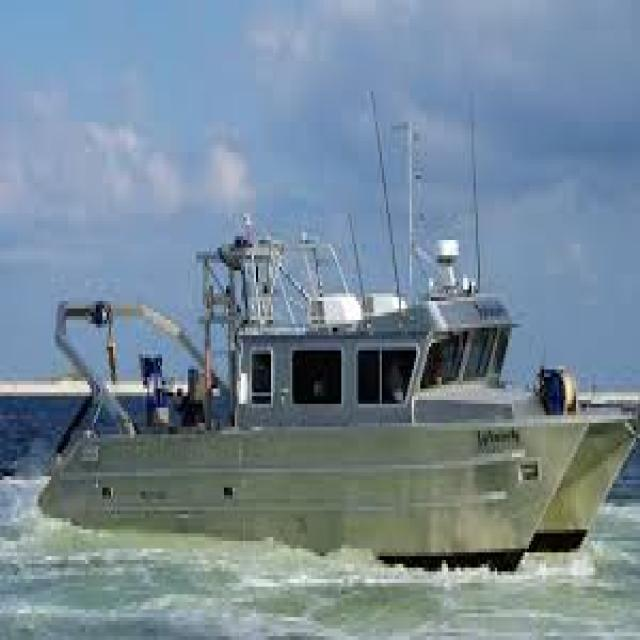houseboat: (43, 158, 627, 579)
